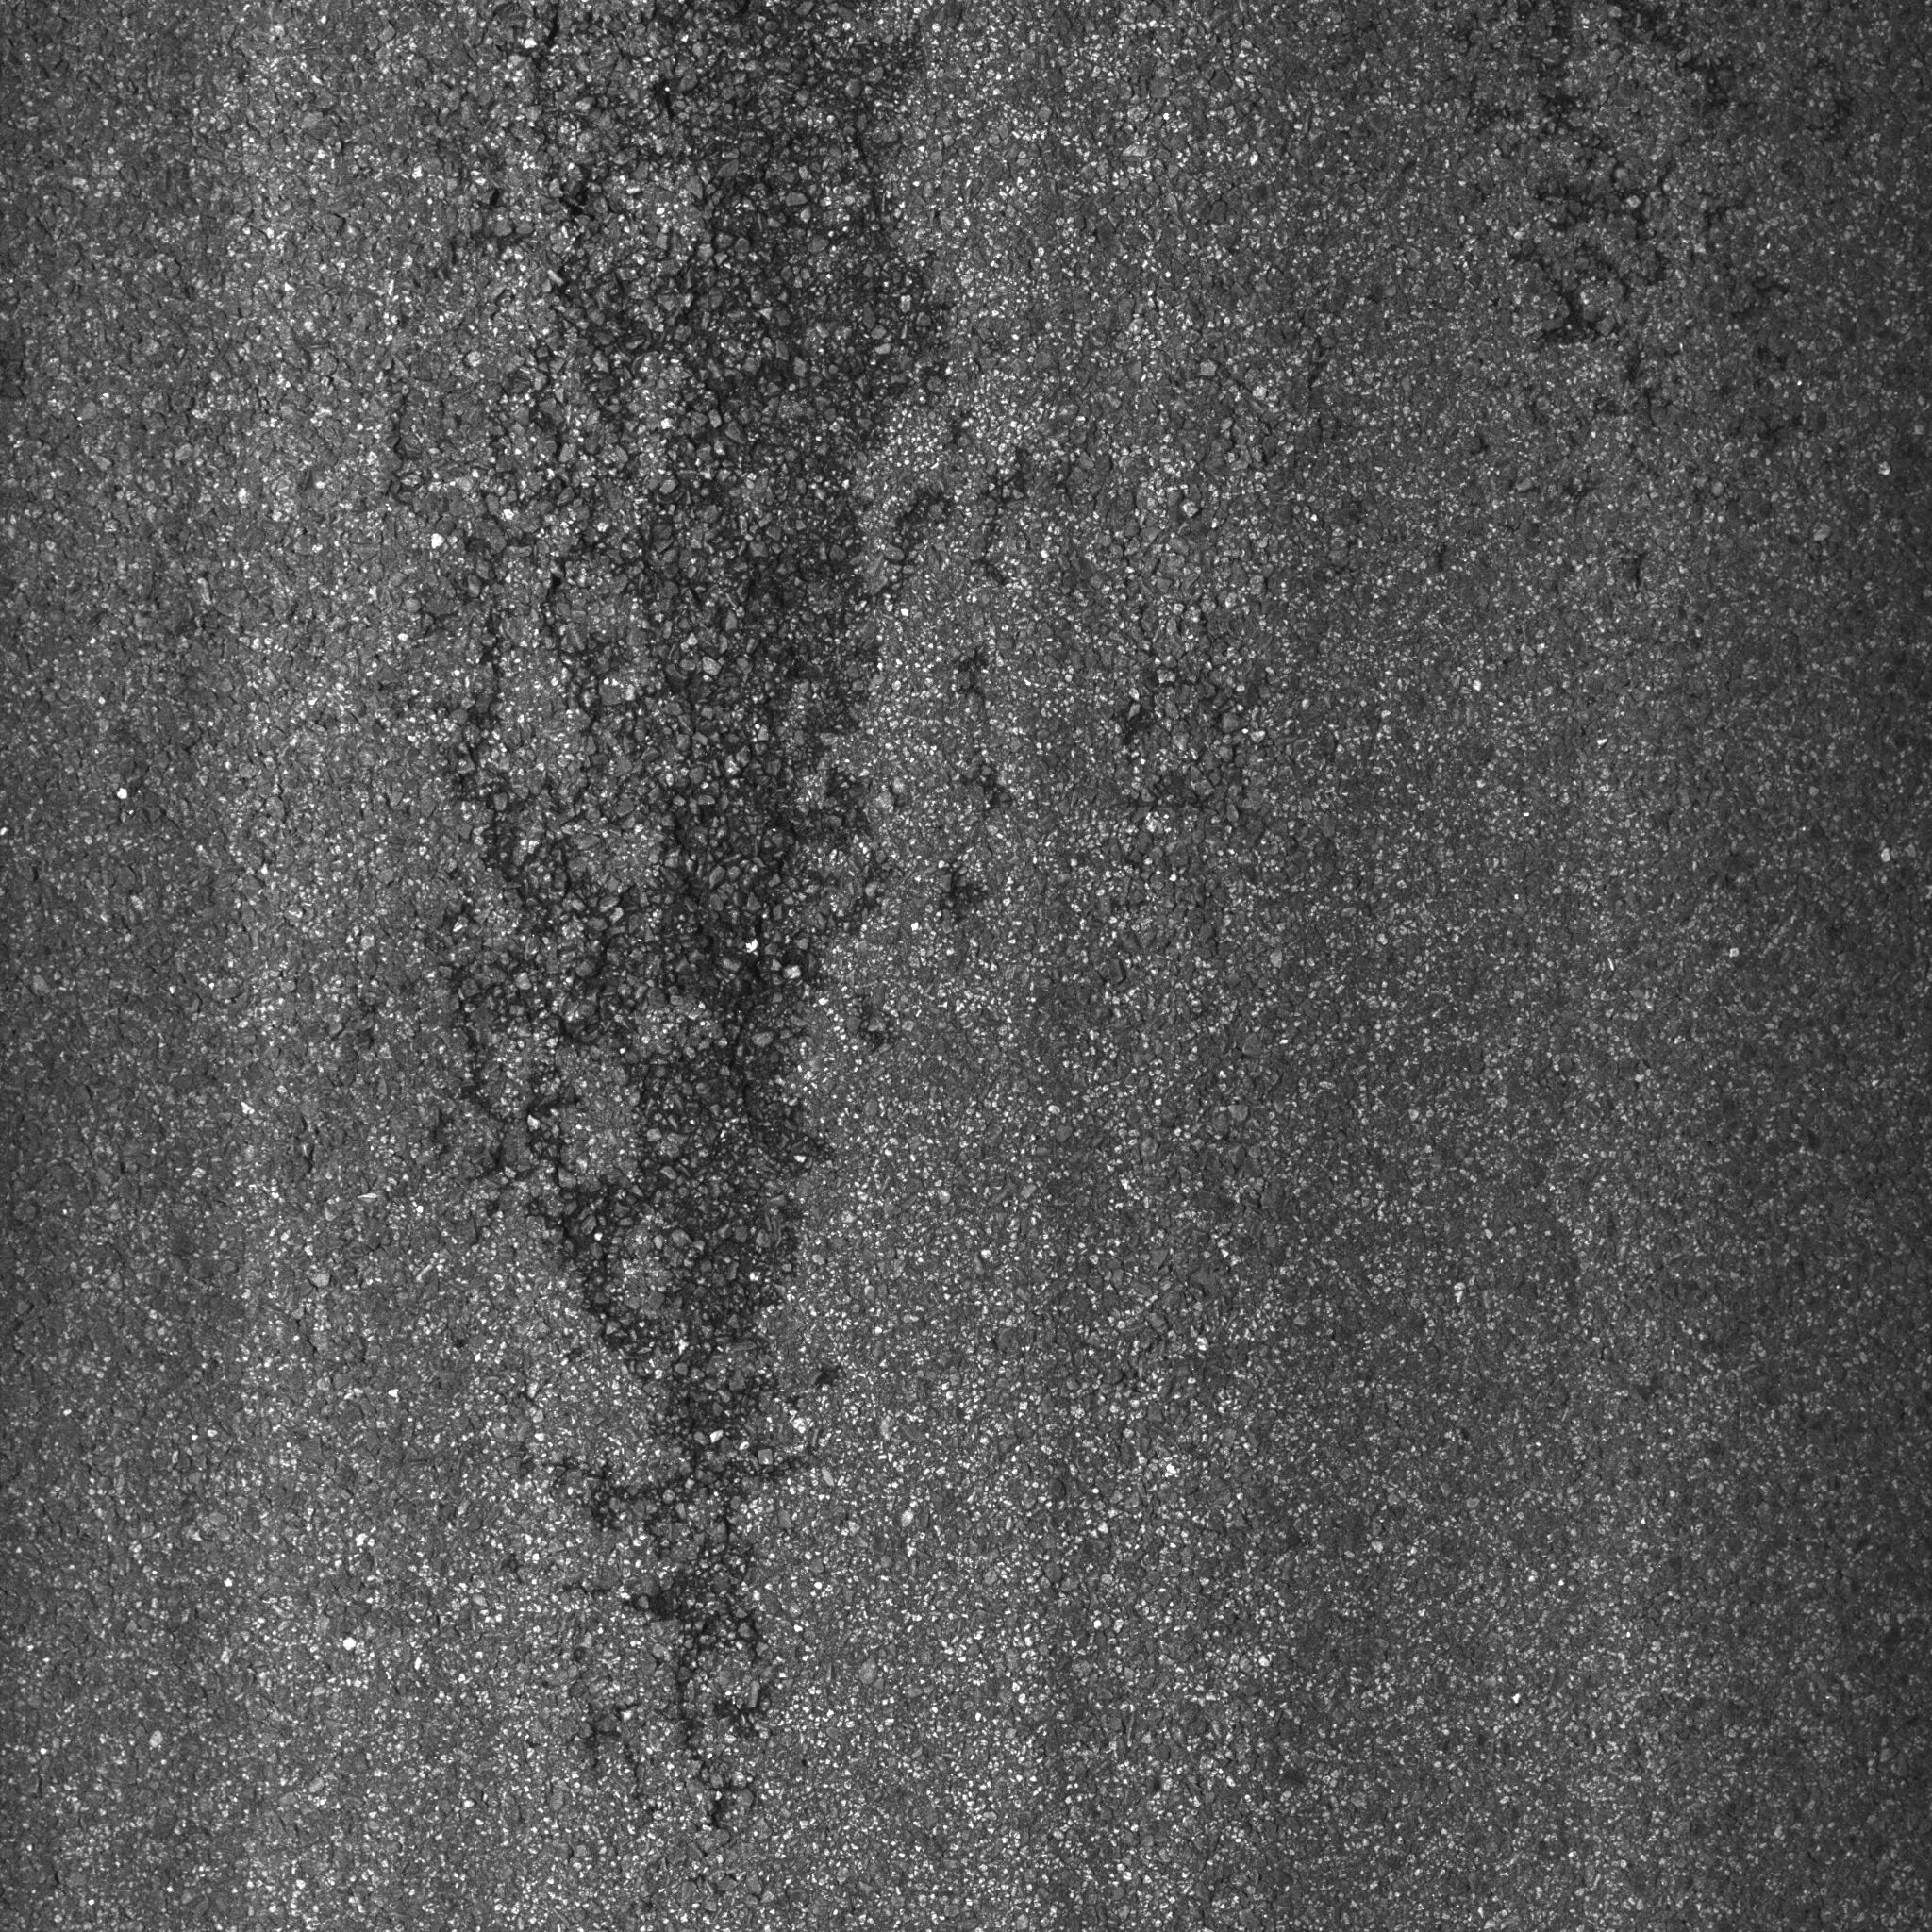alligator: (281, 5, 1182, 1849)
